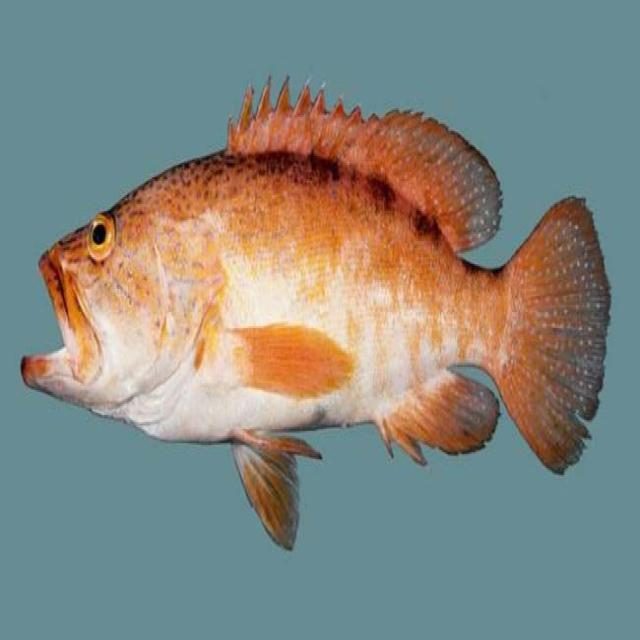ikan: (19, 71, 612, 551)
